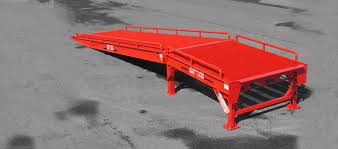Yard Ramp: (71, 24, 309, 130)
